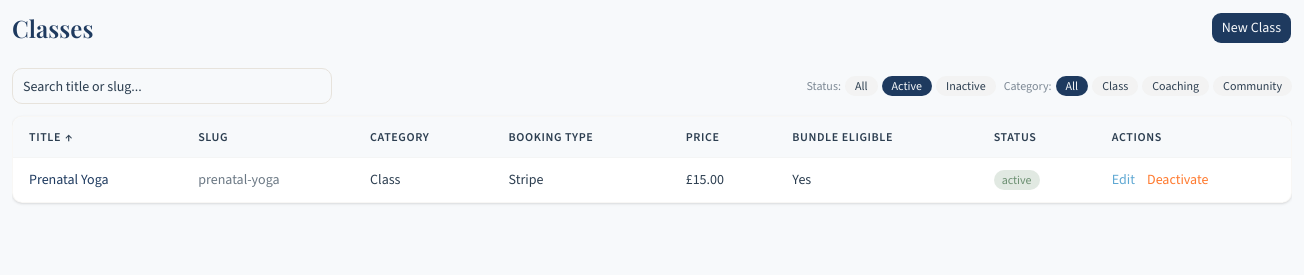
it: /admin/classes › says on the page why a class could not be saved
Expected: the cell "Prenatal Yoga" is shown, left=13, top=158, right=182, bottom=202
Click the button "Deactivate" at (1178, 180), box left=1147, top=170, right=1208, bottom=190
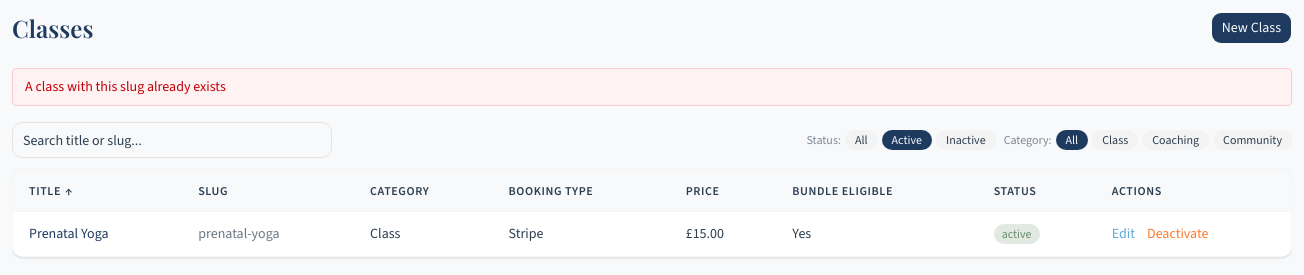
Result: the message reads "A class with this slug already exists" at left=25, top=77, right=226, bottom=96
